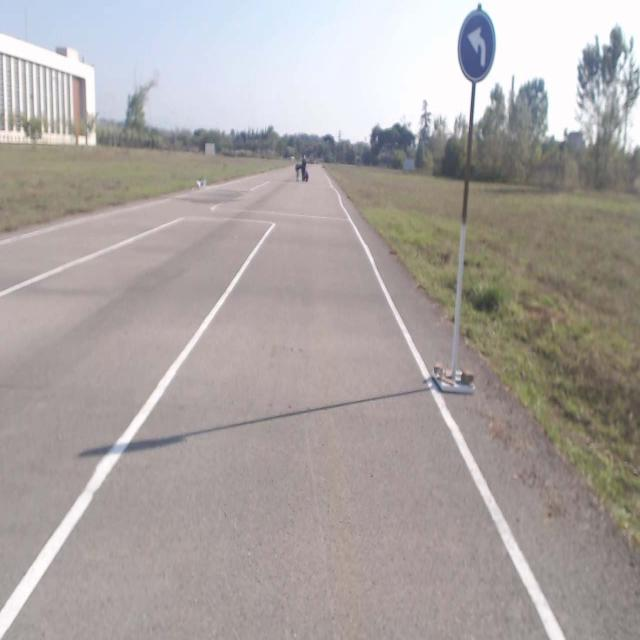sol: (458, 10, 496, 81)
